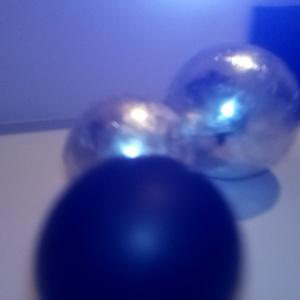alive_ball: (164, 43, 297, 179), (64, 95, 193, 201)
dead_ball: (37, 158, 241, 300)
